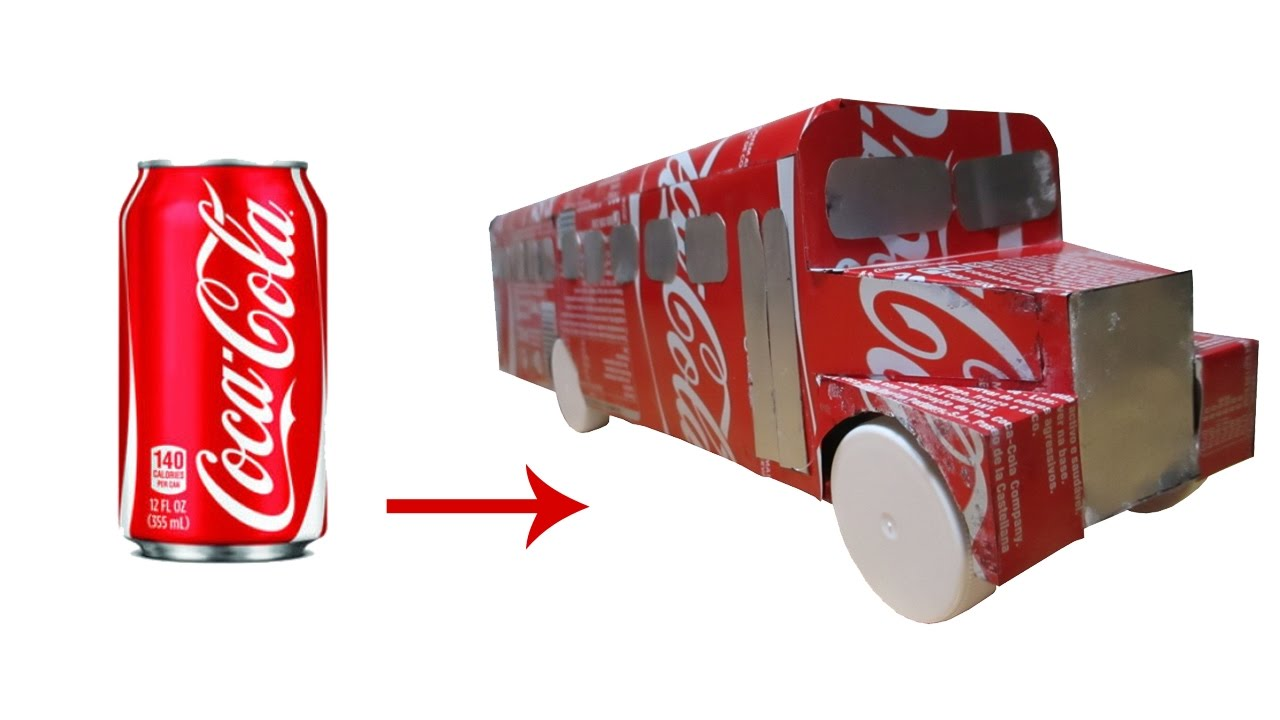can: (109, 147, 336, 570)
